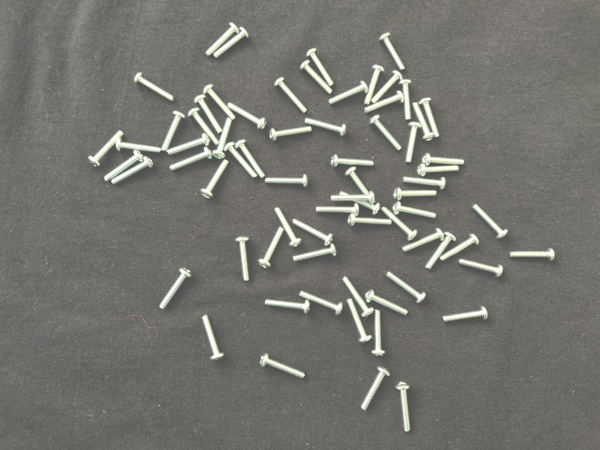longscrew: (159, 267, 195, 311), (87, 130, 125, 169), (472, 204, 510, 241), (223, 141, 259, 180), (361, 367, 392, 412), (103, 149, 144, 183), (260, 352, 308, 381), (342, 276, 375, 318), (381, 205, 418, 242), (273, 76, 307, 116), (187, 106, 220, 147), (386, 272, 427, 305), (299, 59, 335, 96), (200, 159, 232, 200), (111, 156, 154, 186), (203, 82, 236, 121), (212, 27, 251, 60), (425, 232, 458, 271), (258, 226, 287, 270), (134, 72, 175, 103), (346, 298, 373, 345), (193, 93, 223, 135), (205, 22, 240, 58), (299, 290, 344, 318), (201, 315, 227, 363), (365, 289, 409, 317), (235, 139, 265, 180), (369, 115, 402, 152), (292, 218, 334, 247), (227, 101, 267, 131), (305, 47, 335, 87), (274, 207, 302, 249), (327, 81, 369, 109), (371, 70, 403, 106), (169, 147, 213, 173), (440, 234, 480, 262), (160, 111, 186, 153), (339, 190, 381, 216), (402, 228, 444, 254), (166, 133, 211, 157), (379, 31, 406, 71), (212, 117, 235, 161), (233, 235, 254, 283), (293, 243, 338, 265), (458, 259, 505, 280), (364, 90, 405, 114), (304, 117, 348, 139), (418, 97, 441, 139), (412, 102, 435, 142), (114, 136, 162, 155), (363, 64, 385, 105), (392, 201, 437, 221), (264, 298, 311, 317), (442, 305, 489, 324), (395, 381, 412, 433), (344, 166, 371, 198), (269, 124, 313, 143), (508, 247, 556, 264), (315, 202, 360, 220), (370, 309, 386, 358), (404, 122, 422, 164), (264, 173, 309, 189), (330, 154, 375, 170), (421, 152, 465, 168), (401, 177, 447, 192), (398, 78, 414, 121), (393, 187, 437, 202), (348, 215, 391, 230), (417, 163, 460, 178), (331, 191, 376, 205)
